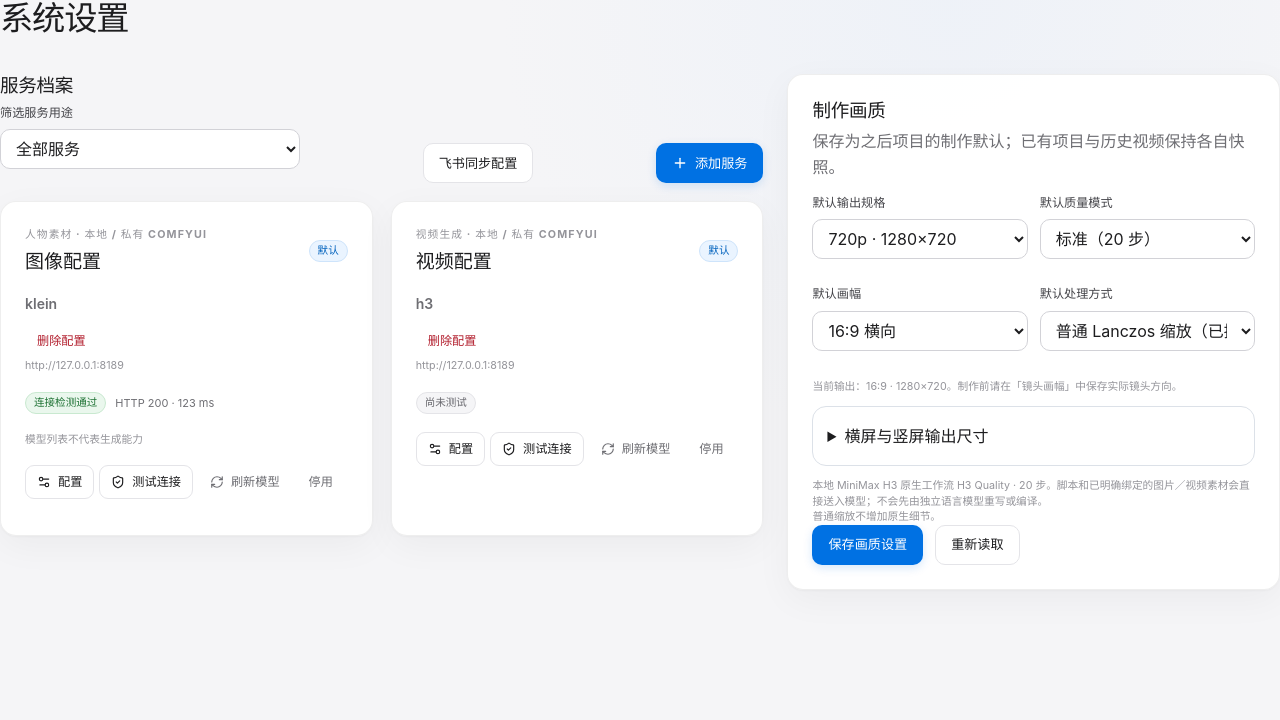
Test: adds the selected service module from the flat all-services view
Expected: the heading "图像配置" is shown, [25, 250, 101, 273]
Click the button "添加服务" at (710, 163), box [656, 143, 764, 183]
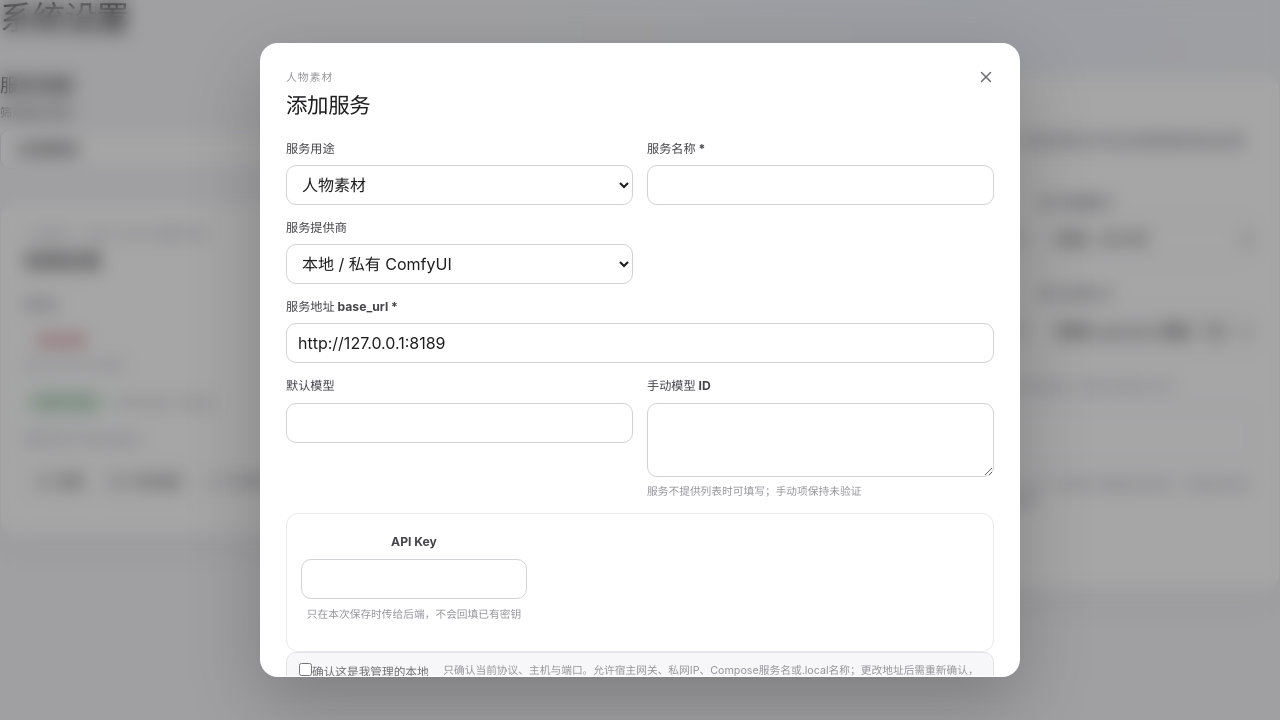
Select "角色配音" in the dropdown labelled "服务用途" at (460, 185), box [286, 165, 633, 205]
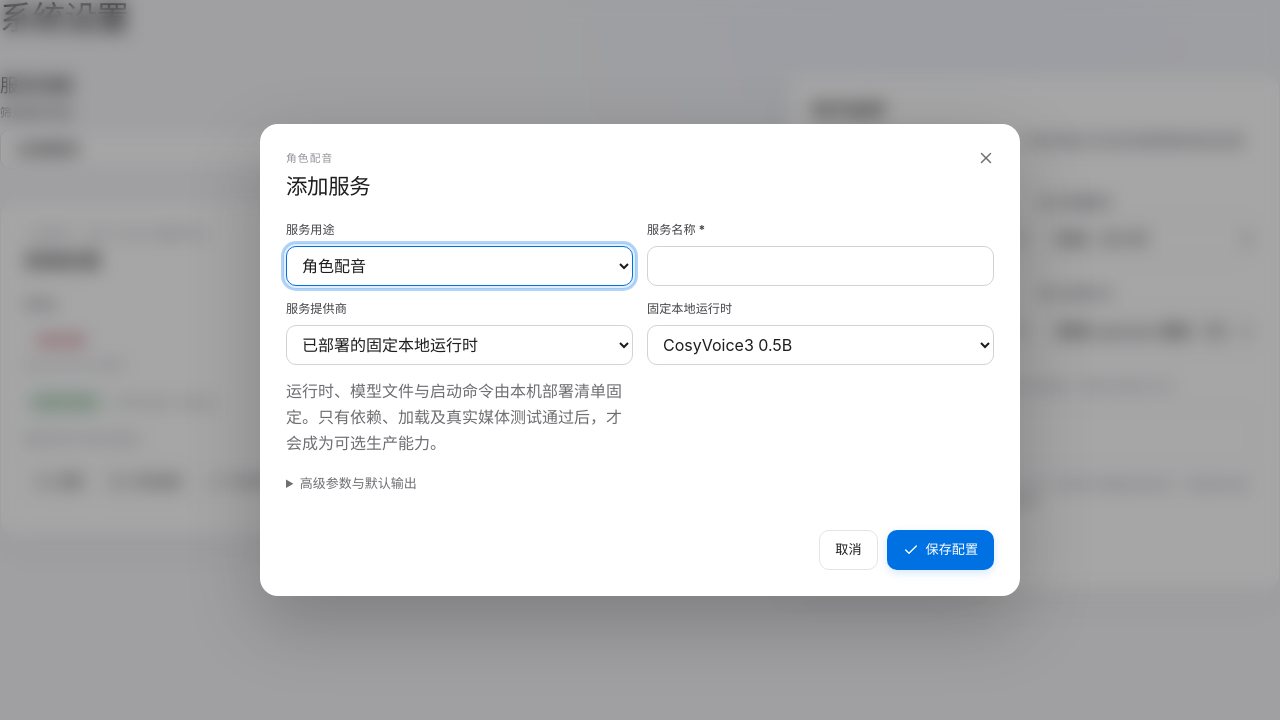
Expected: the dropdown labelled "服务提供商" shows "已部署的固定本地运行时", [286, 325, 633, 365]
Expected: the dropdown labelled "固定本地运行时" shows "CosyVoice3 0.5B", [647, 325, 994, 365]
Type "本地配音配置" into the field labelled "服务名称" at (820, 266), box [647, 246, 994, 286]
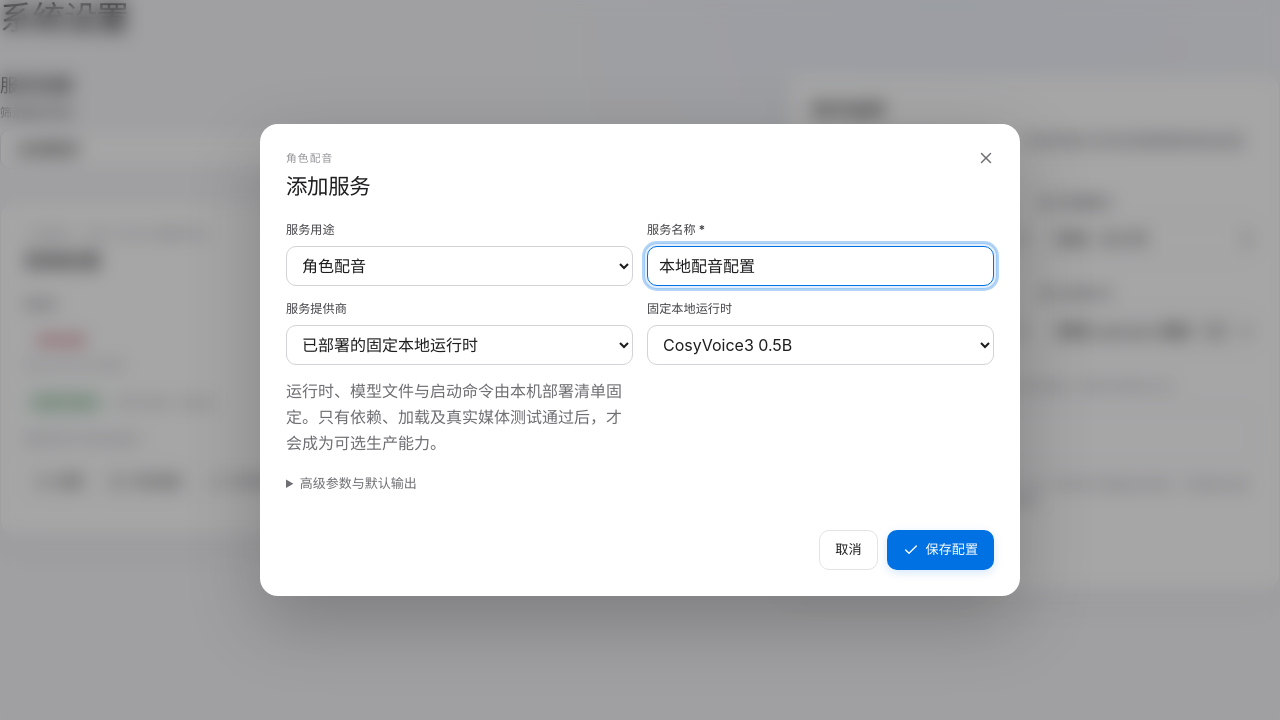
Click the button "保存配置" at (940, 550), box [886, 530, 994, 570]
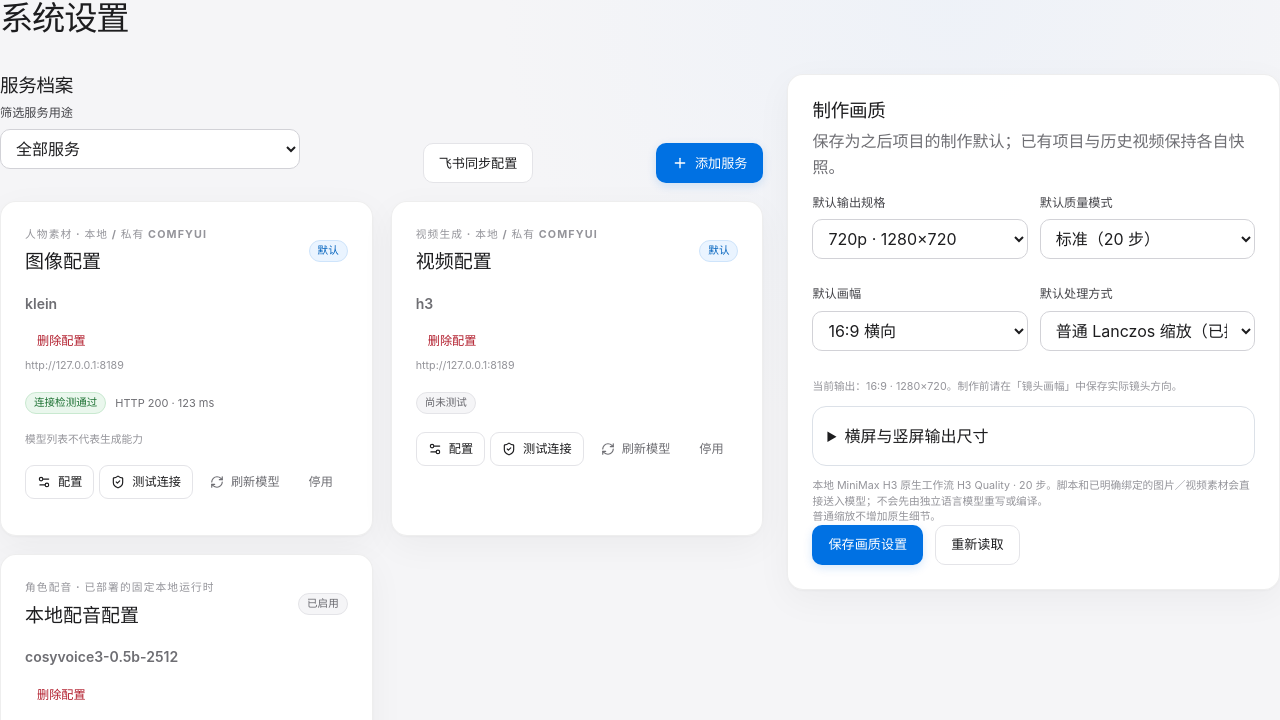
Expected: the heading "视频配置" is shown, [416, 250, 492, 273]
Expected: the heading "本地配音配置" is shown, [25, 604, 139, 627]
